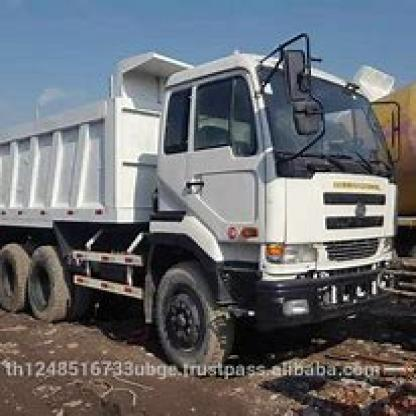dump_truck: (0, 41, 388, 370)
